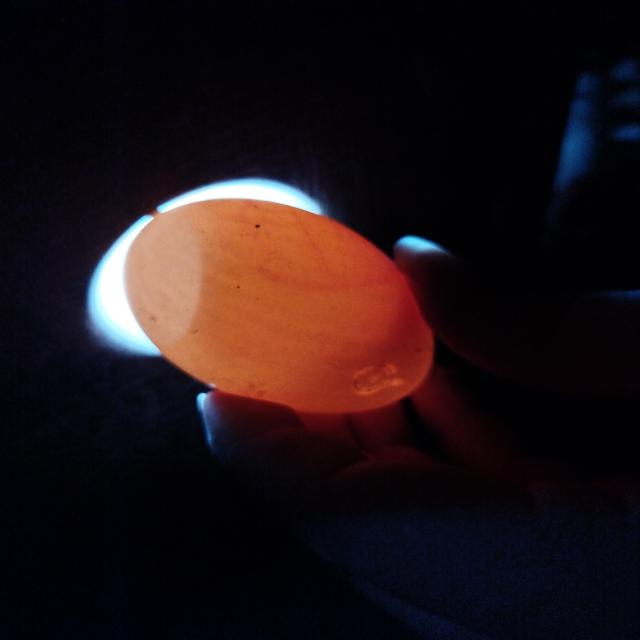Camara de Ar: (123, 208, 203, 343)
Rachadura: (356, 365, 392, 390)
